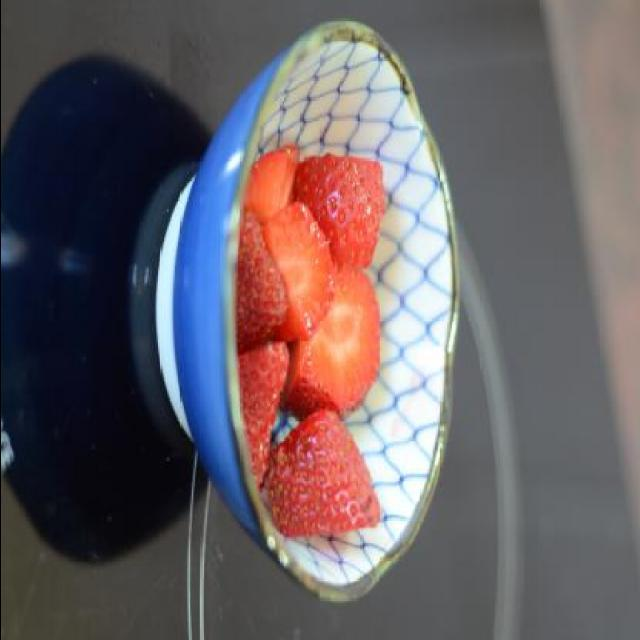Strawberry: (258, 412, 374, 560), (292, 272, 386, 430), (301, 150, 387, 279), (224, 200, 286, 368), (216, 133, 282, 264), (231, 343, 289, 488), (273, 216, 341, 330)
